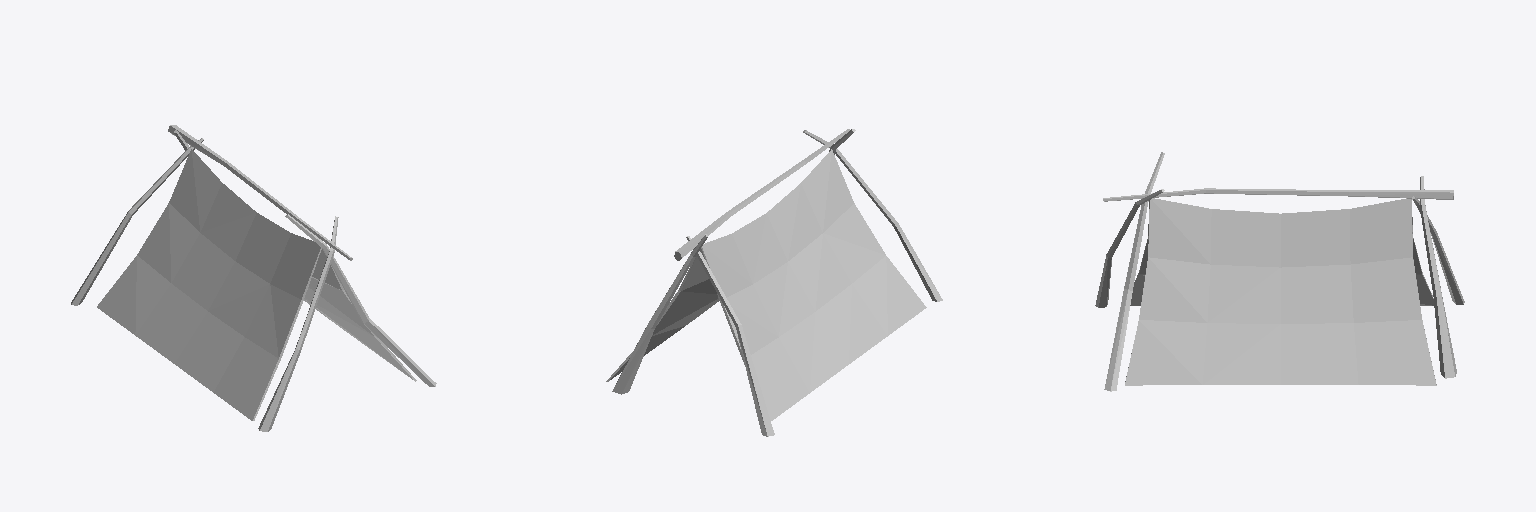
File: Tent01.obj
3 views of the same model, side by side, from view 1: azimuth 30°, elevation 25°; view 2: azimuth 150°, elevation 25°; view 3: azimuth 270°, elevation 25° (orthographic).
Parts seen in each view (by area): view 1: Tent01; view 2: Tent01; view 3: Tent01.
Part boxes in pixels (bbox=[...]): Tent01: bbox=[71, 125, 436, 431]; Tent01: bbox=[606, 129, 942, 436]; Tent01: bbox=[1095, 152, 1464, 391].
Bounding box in the file's own units: 2.37 × 2.15 × 3.95.